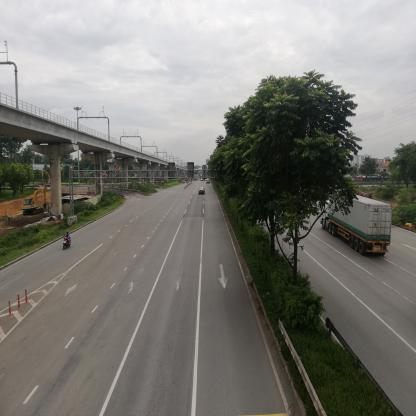car: (200, 186, 204, 197)
container: (319, 197, 394, 261)
motorbike: (63, 233, 70, 246)
